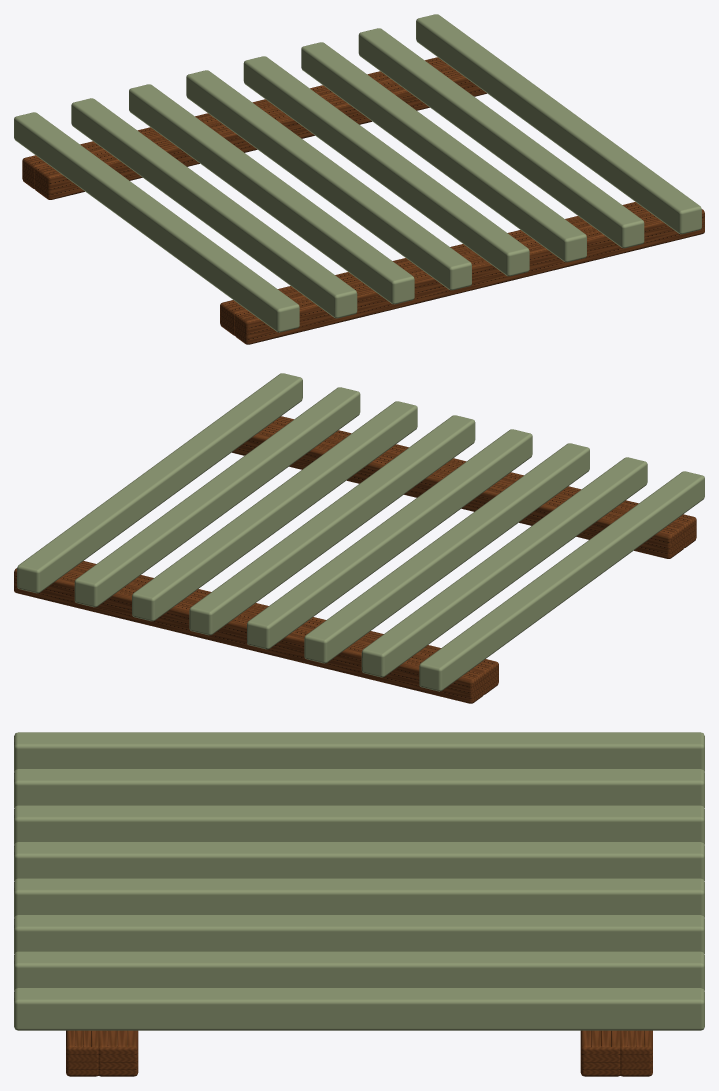
File: prehistoric-survivor-settlement-woven-pergola-7980e298__23176.glb
The picture shows the model from 3 angles, top to bottom: view 1: azimuth 30°, elevation 25°; view 2: azimuth 150°, elevation 25°; view 3: azimuth 270°, elevation 25°; orthographic projection. The views are drawn at different scales.
Parts seen in each view (by area): view 1: woven-pergola; view 2: woven-pergola; view 3: woven-pergola.
Boxes of the visible parts, bbox=[...] form: woven-pergola: bbox=[14, 14, 704, 344]; woven-pergola: bbox=[14, 373, 704, 703]; woven-pergola: bbox=[14, 732, 704, 1076].
Bounding box in the file's own units: 2 × 0.2001 × 2.
2 materials, 1 textured.
